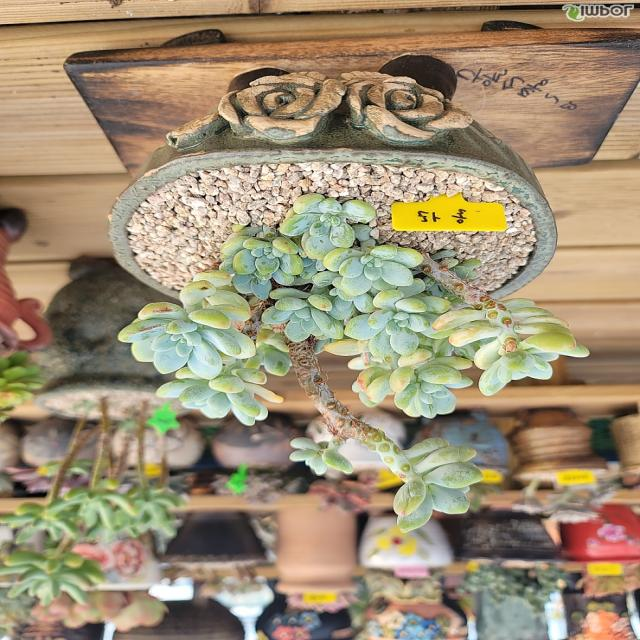LumiRose: (428, 300, 581, 392), (119, 303, 262, 380), (157, 370, 277, 424), (353, 364, 471, 417), (258, 283, 364, 341), (280, 196, 377, 259), (311, 242, 428, 294), (216, 227, 305, 295)
